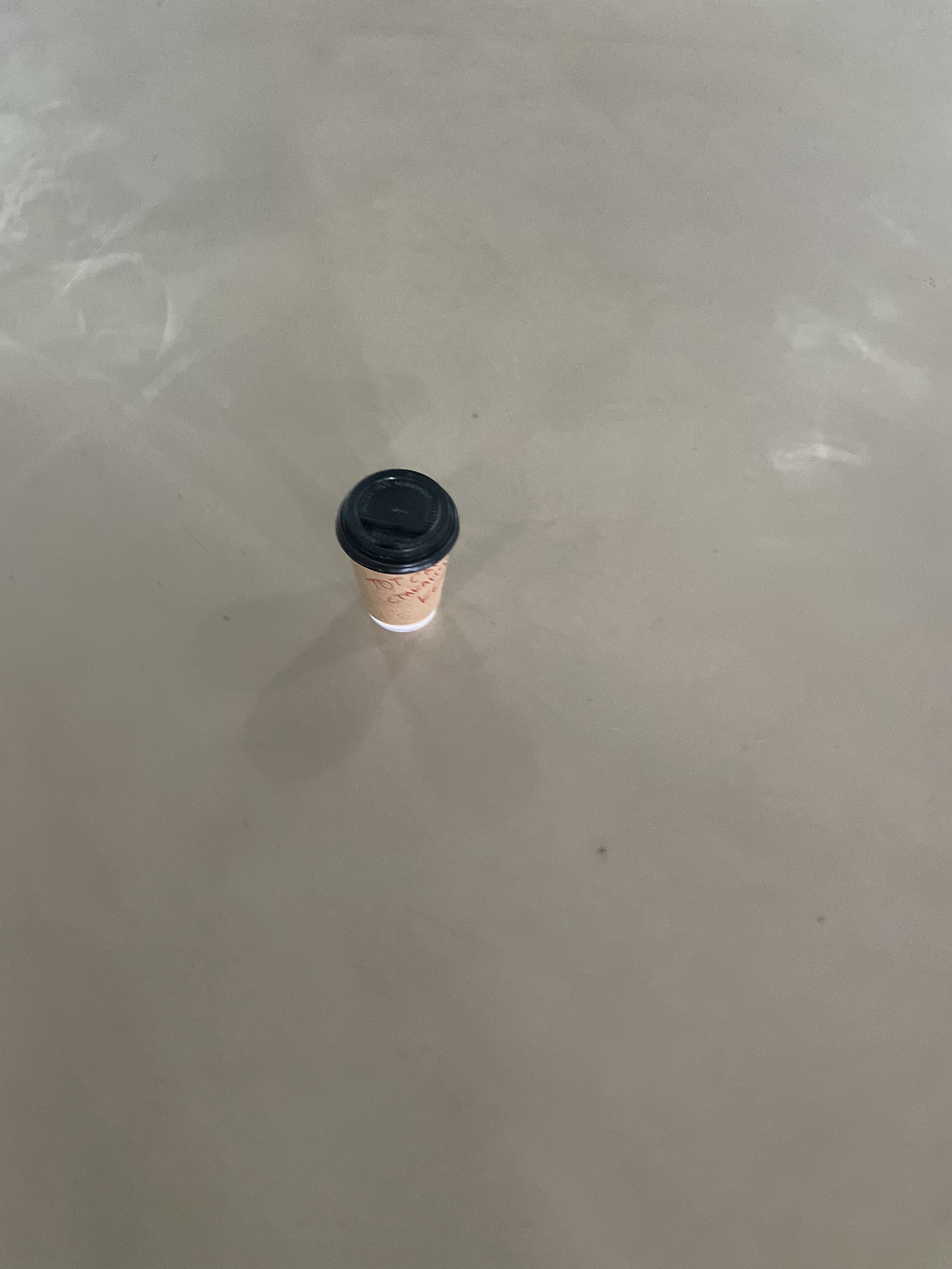cup: (335, 466, 460, 632)
